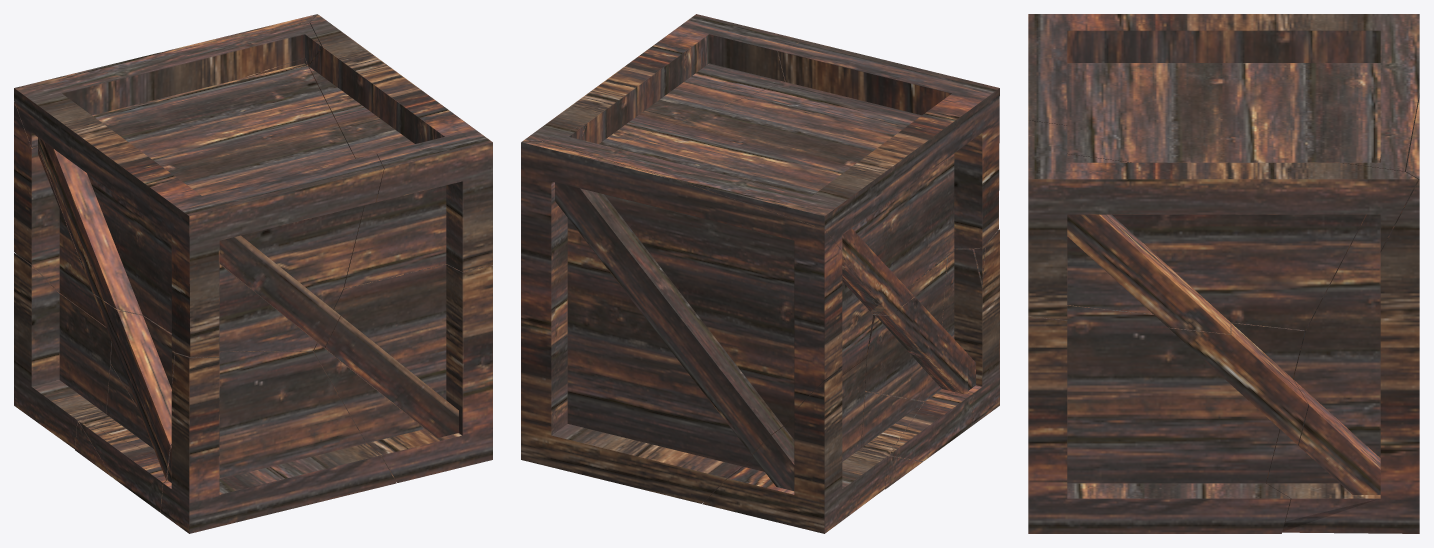
Rendered from Chest_Exploded.fbx.
The picture shows the model from 3 angles, left to right: view 1: azimuth 30°, elevation 25°; view 2: azimuth 150°, elevation 25°; view 3: azimuth 270°, elevation 25°; orthographic projection. The views are drawn at different scales.
Parts seen in each view (by area): view 1: Chest_cell, Chest_cell.004, Chest_cell.002, Chest_cell.001, Chest_cell.003, Chest_cell.005, Chest_cell.006, Chest_cell.007; view 2: Chest_cell.006, Chest_cell, Chest_cell.001, Chest_cell.003, Chest_cell.005, Chest_cell.004, Chest_cell.007; view 3: Chest_cell, Chest_cell.002, Chest_cell.001, Chest_cell.006.
Boxes of the visible parts, <box> form: Chest_cell: <box>14,22,383,356</box>; Chest_cell.004: <box>160,351,396,533</box>; Chest_cell.002: <box>313,264,492,482</box>; Chest_cell.001: <box>308,14,492,288</box>; Chest_cell.003: <box>14,253,111,449</box>; Chest_cell.005: <box>79,294,172,512</box>; Chest_cell.006: <box>14,14,317,327</box>; Chest_cell.007: <box>75,364,155,477</box>; Chest_cell.006: <box>521,141,879,503</box>; Chest_cell: <box>543,40,999,315</box>; Chest_cell.001: <box>522,14,804,147</box>; Chest_cell.003: <box>702,358,887,533</box>; Chest_cell.005: <box>863,257,973,461</box>; Chest_cell.004: <box>936,229,999,426</box>; Chest_cell.007: <box>860,390,925,489</box>; Chest_cell: <box>1028,14,1419,171</box>; Chest_cell.002: <box>1028,305,1308,533</box>; Chest_cell.001: <box>1028,120,1417,334</box>; Chest_cell.006: <box>1266,93,1419,533</box>.
Bounding box in the file's own units: 100 × 100 × 100.
